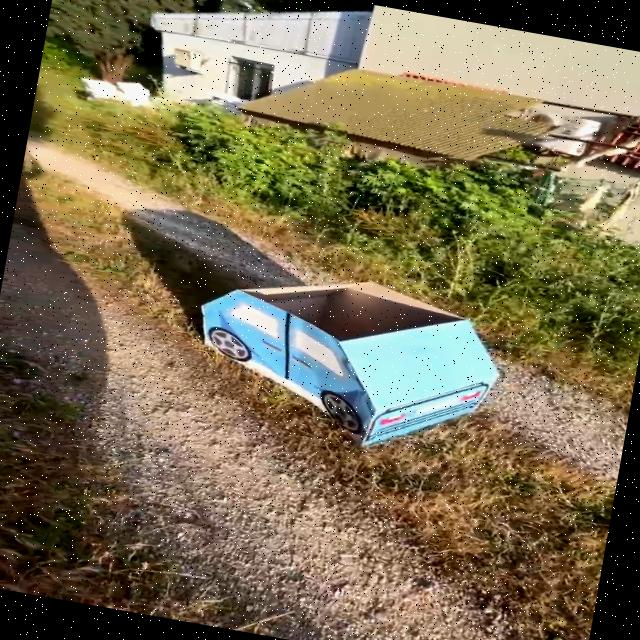blue_car: (136, 208, 538, 487)
